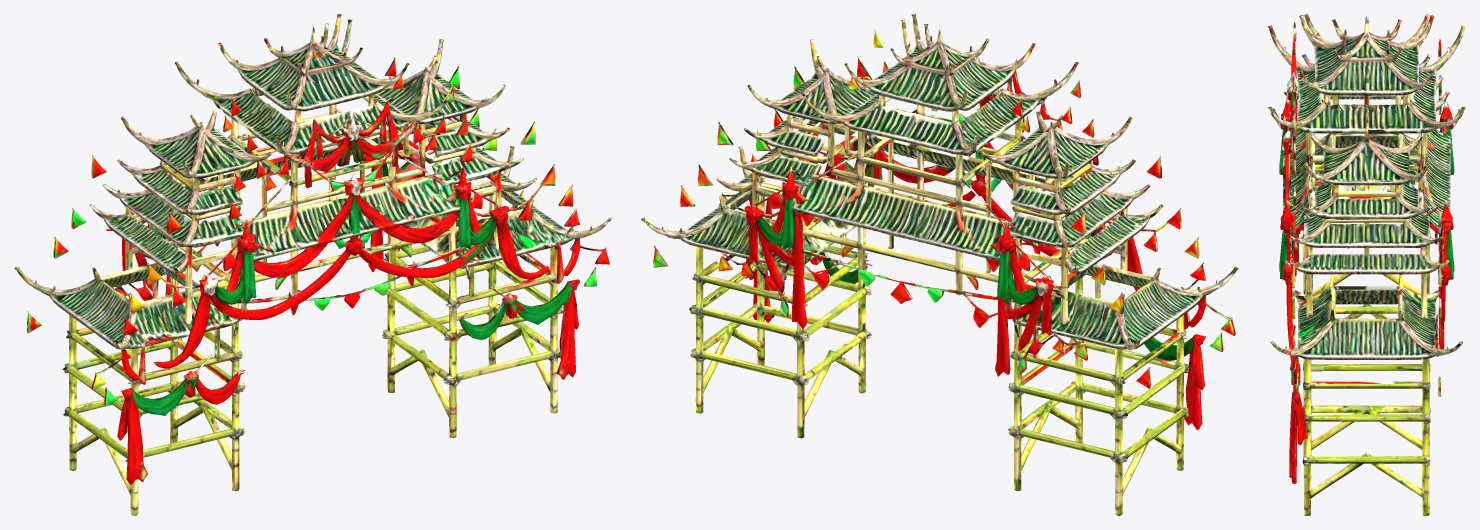
File: qm_cailou.glb
The picture shows the model from 3 angles, left to right: view 1: azimuth 30°, elevation 25°; view 2: azimuth 150°, elevation 25°; view 3: azimuth 270°, elevation 25°; orthographic projection. The views are drawn at different scales.
Parts seen in each view (by area): view 1: qm_cailou; view 2: qm_cailou; view 3: qm_cailou.
Part boxes in pixels (<box>): qm_cailou: <box>14,14,612,515</box>; qm_cailou: <box>641,14,1238,515</box>; qm_cailou: <box>1268,14,1465,515</box>.
Bounding box in the file's own units: 9.11 × 7 × 3.14.
Materials: 1 (1 with a texture image).
